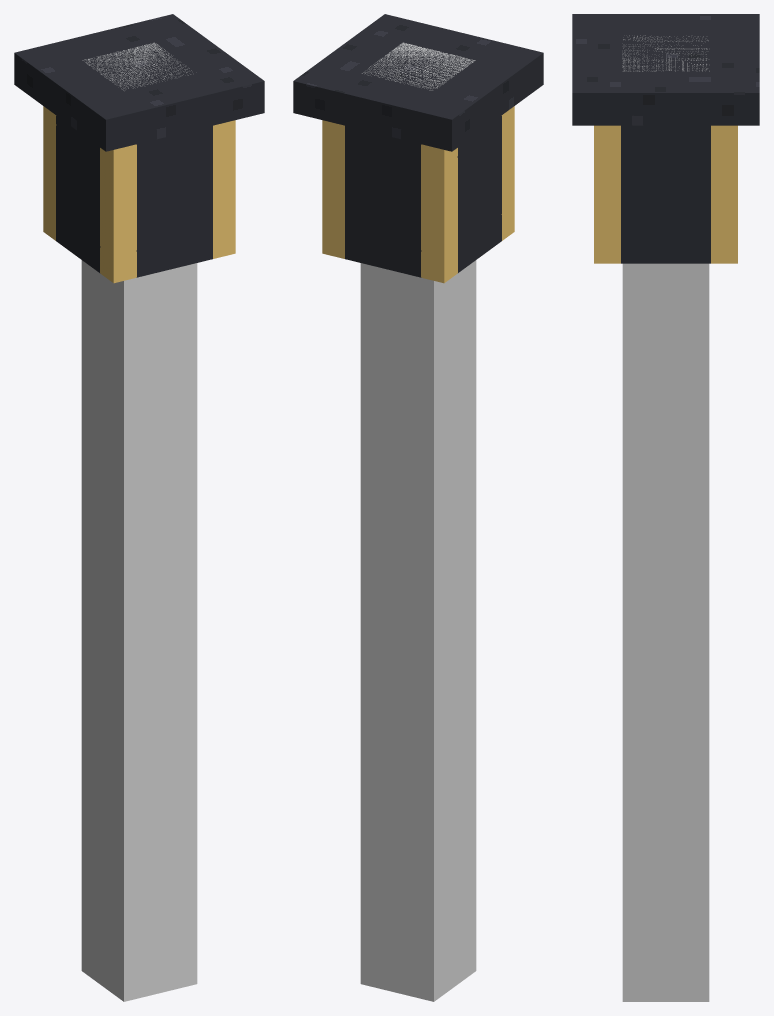
Rendered from lamp_post.glb.
3 renders of one model, left to right at view 1: azimuth 30°, elevation 25°; view 2: azimuth 150°, elevation 25°; view 3: azimuth 270°, elevation 25°, orthographic. The views are drawn at different scales.
Visible parts, largest first — view 1: col_post, lantern, cap; view 2: col_post, lantern, cap; view 3: col_post, cap, lantern.
Part boxes in pixels (x1,y1,x2,y2): col_post: [81, 42, 197, 1001]; lantern: [43, 106, 235, 283]; cap: [14, 14, 264, 151]; col_post: [360, 42, 476, 1001]; lantern: [322, 106, 514, 283]; cap: [293, 14, 543, 151]; col_post: [622, 35, 709, 1001]; cap: [572, 14, 759, 125]; lantern: [594, 125, 737, 263].
Bounding box in the file's own units: 0.52 × 2.85 × 0.52.
2 materials, 2 textured.
